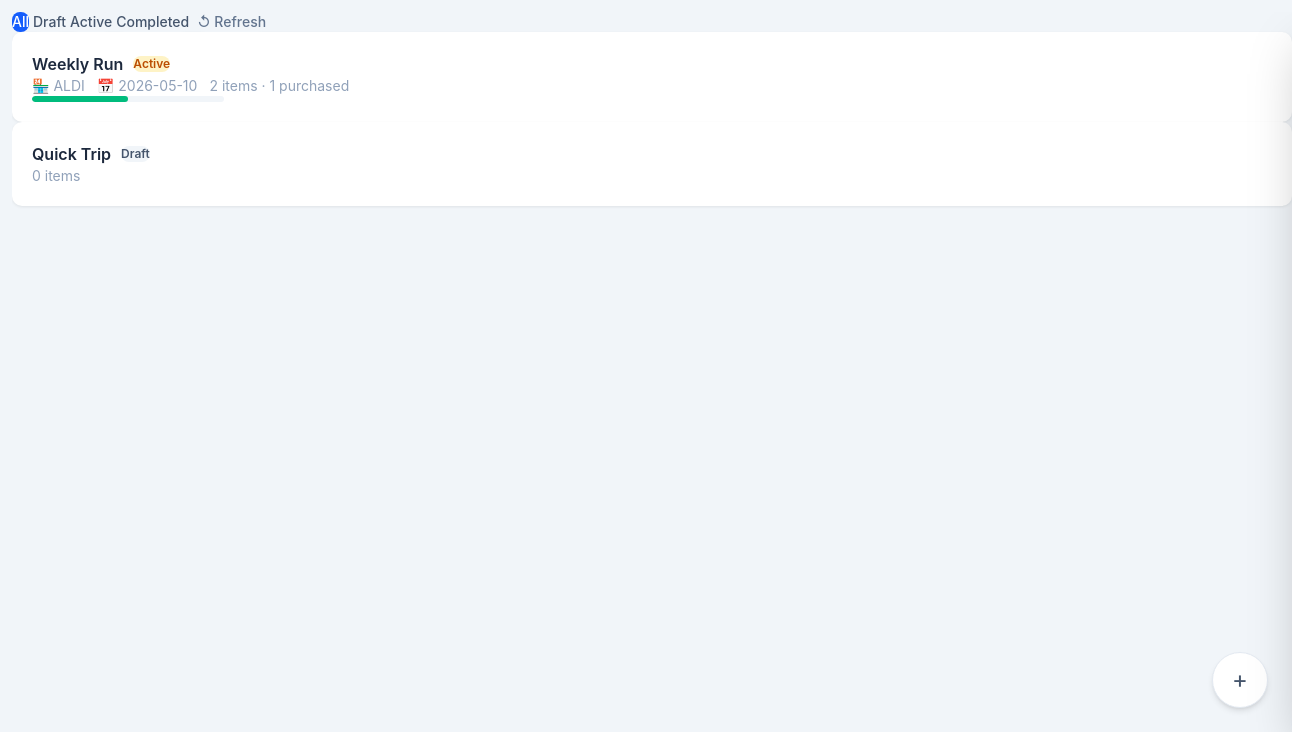
Test: GroceryLists — status filter › shows filtered empty message when no lists match the selected status
expect the text "Weekly Run" is shown: met, box x1=32 y1=52 x2=123 y2=76
Step 1. Click the button "Completed" → (153, 22), box x1=116 y1=12 x2=189 y2=32
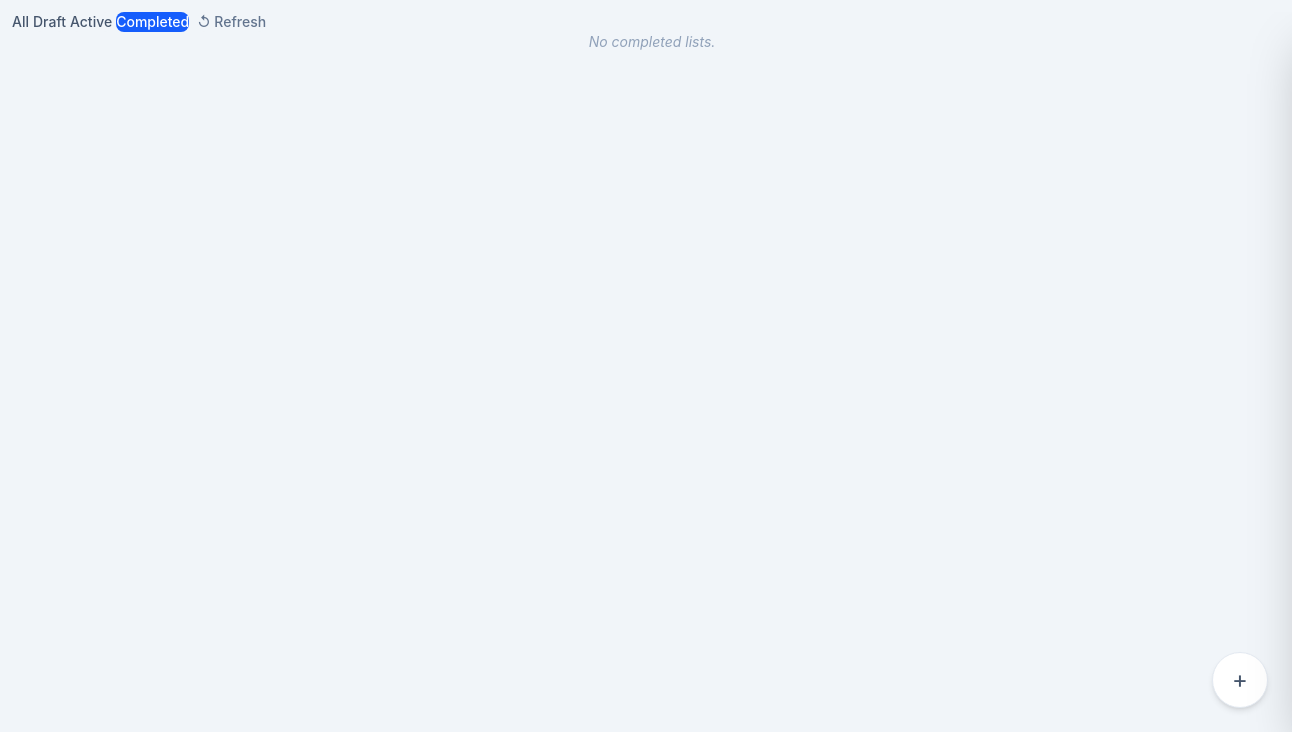
expect the text "No completed lists." is shown: met, box x1=589 y1=33 x2=715 y2=50
